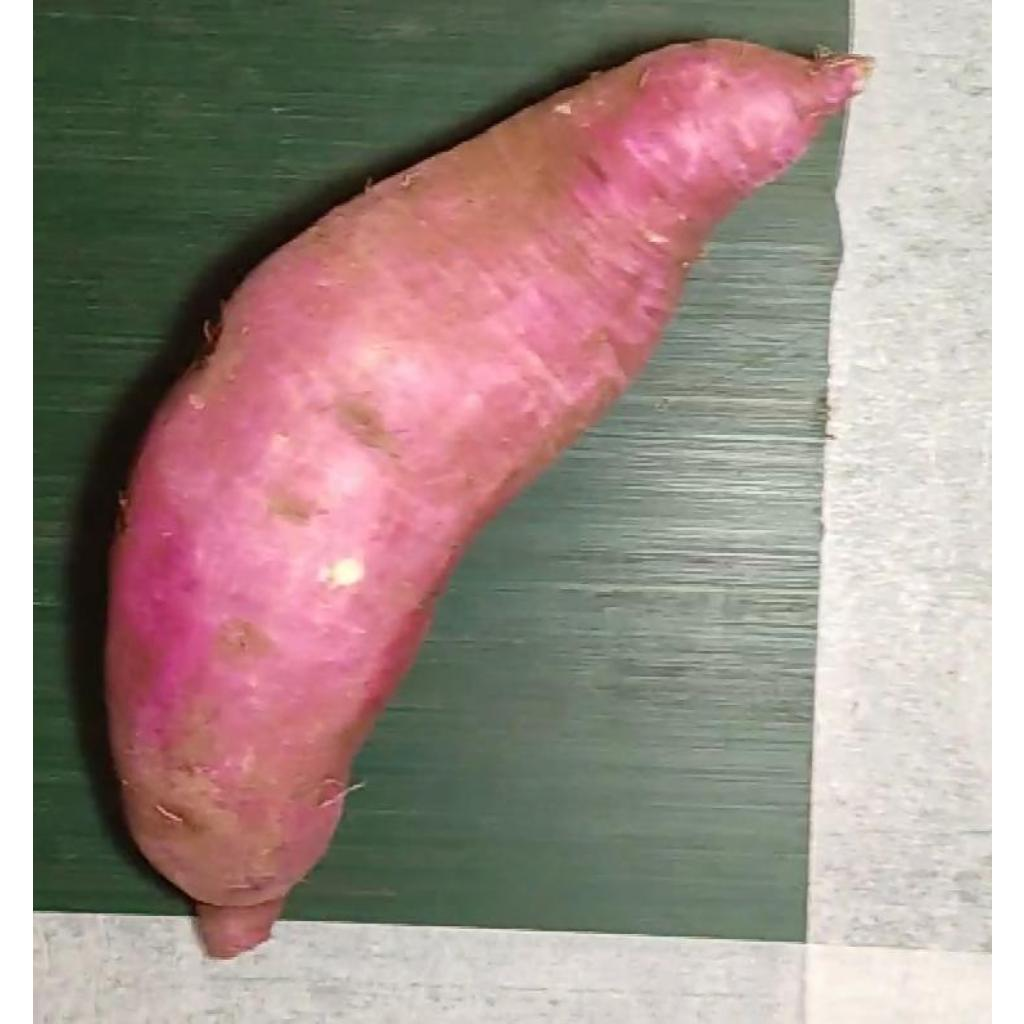Sweet Potato: (99, 37, 876, 962)
